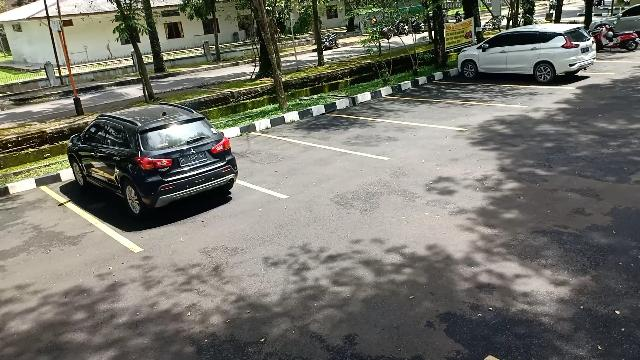empty: (239, 132, 347, 200), (308, 116, 404, 158), (417, 81, 543, 107), (372, 96, 468, 130)
occupied: (70, 132, 238, 248), (454, 41, 598, 84)
